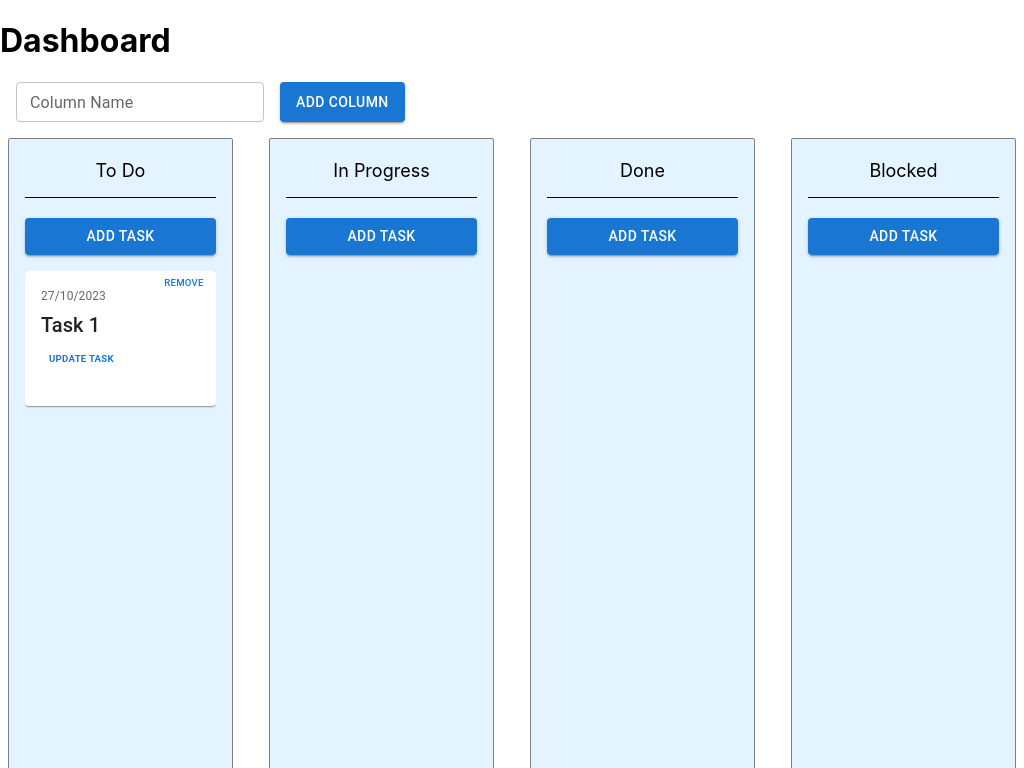
Test: Dashboard › opens Update Task modal when a task is clicked
Click the text "Task 1": (71, 325) [41,313,100,337]
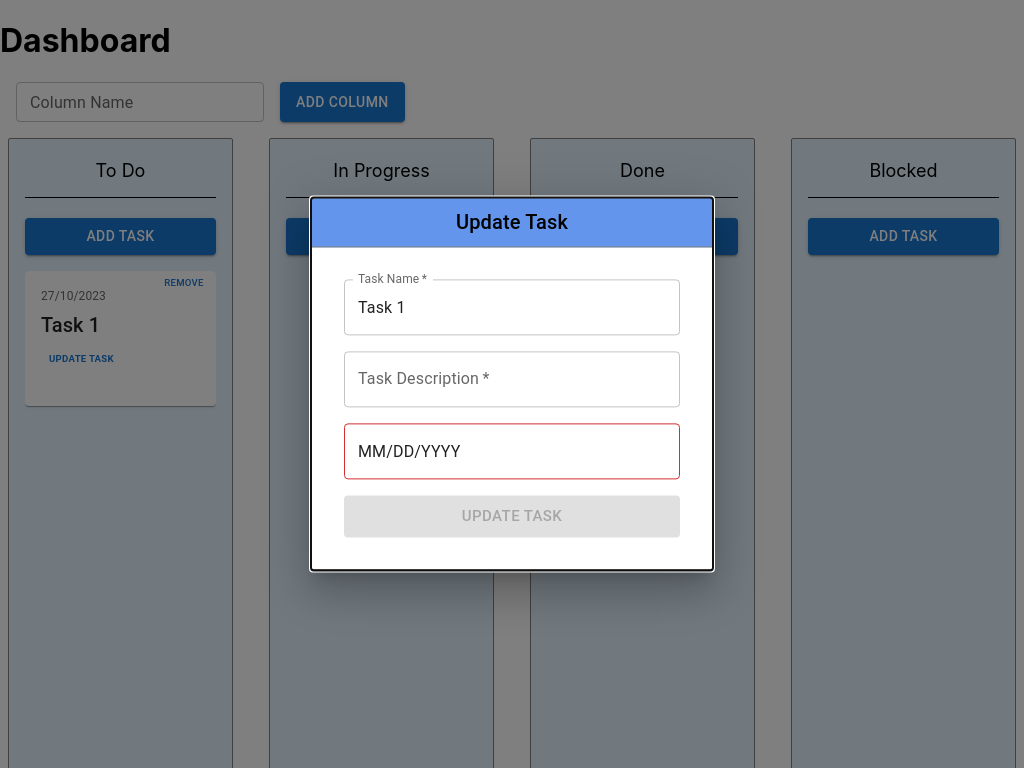
Expected: the button with test id "update-task" is shown, [344,495,680,538]
